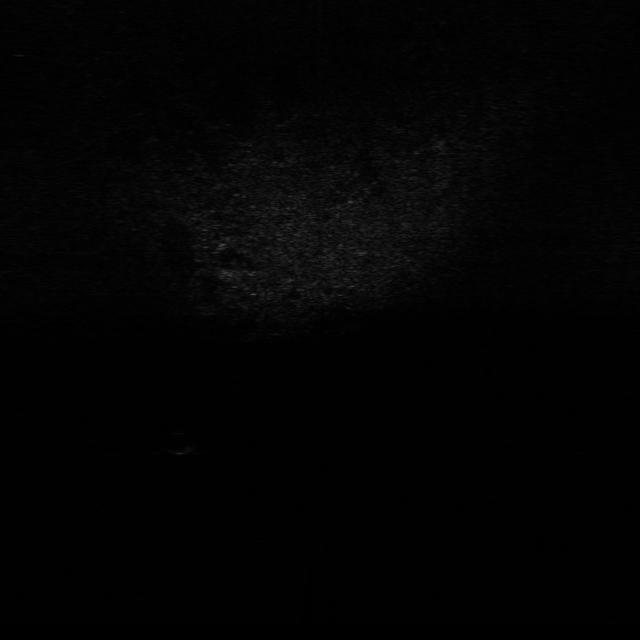ball: (159, 428, 202, 458)
